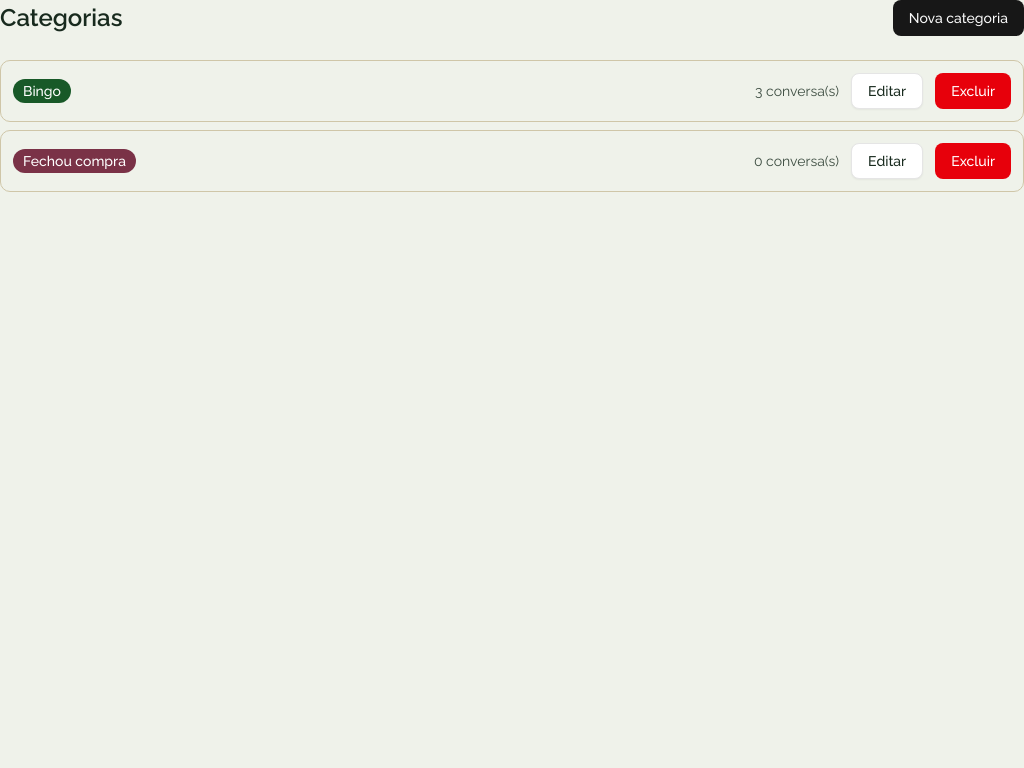
CategoriasPage › opens the create dialog when "Nova categoria" is clicked
The image size is (1024, 768).
Check: the text "Bingo" is shown, box [13,79,71,103]
Click the button "Nova categoria": click(958, 18) [893,0,1023,36]
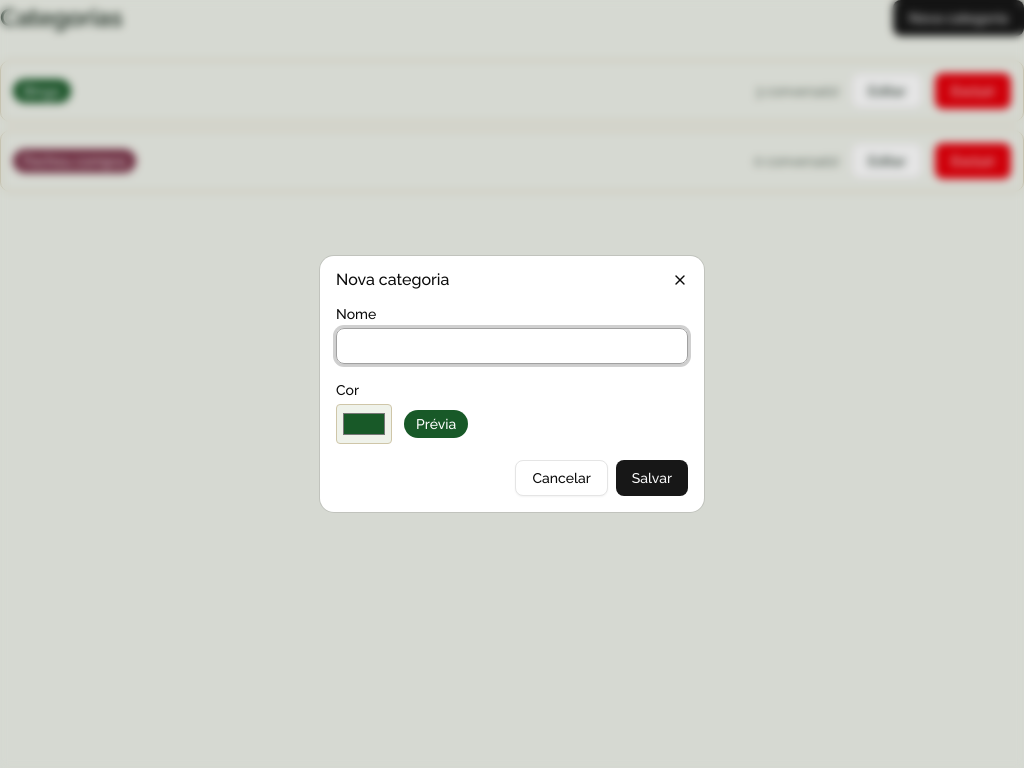
Check: the heading "Nova categoria" is shown, box [336,270,449,289]
